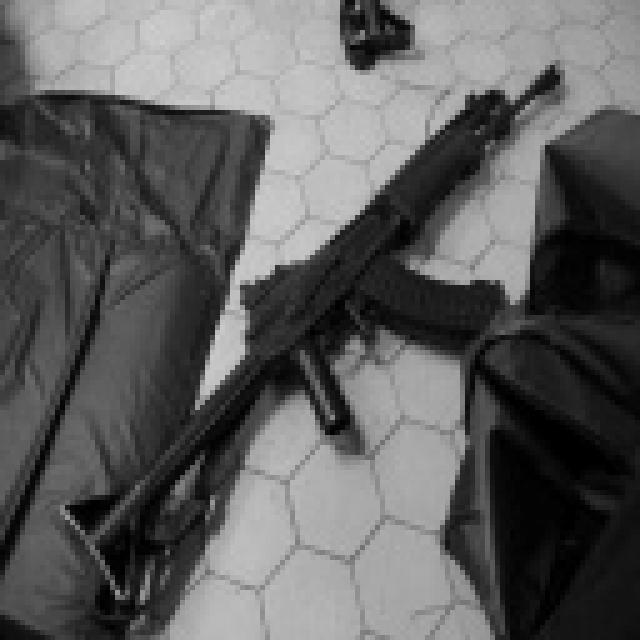Rifle: (46, 23, 604, 623)
